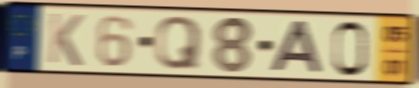0: (331, 18, 369, 78)
6: (95, 13, 134, 69)
8: (211, 15, 253, 75)
A: (268, 18, 325, 76)
K: (46, 11, 86, 69)
Q: (154, 14, 204, 72)
